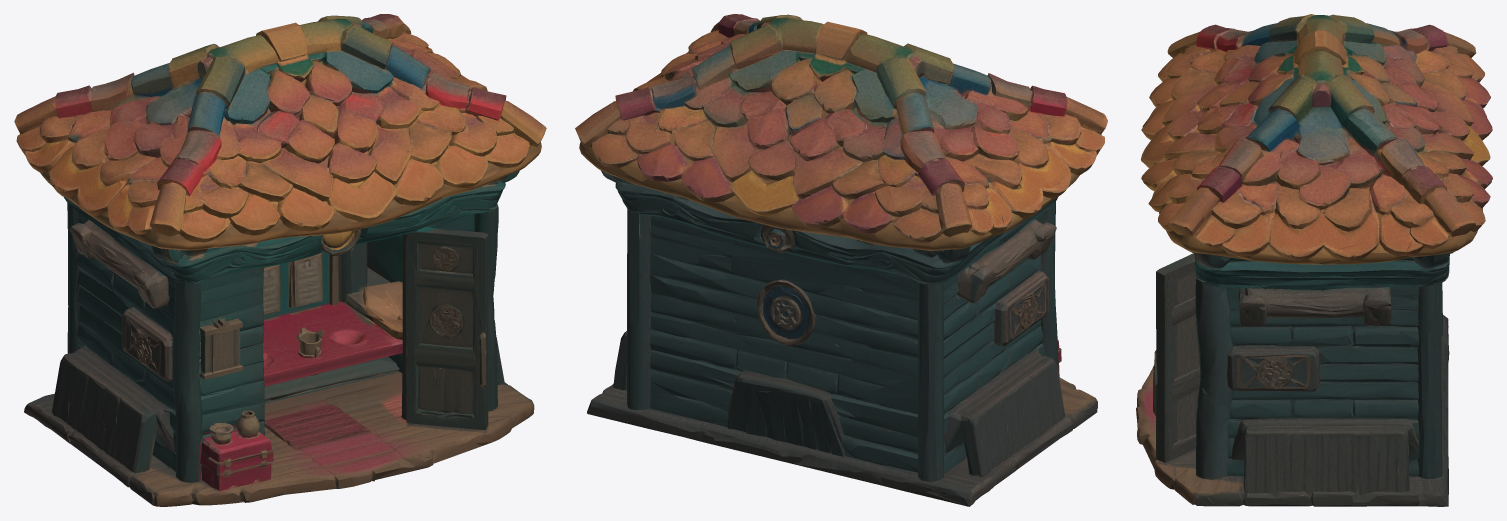
The model's file is shop.glb.
3 renders of one model, left to right at view 1: azimuth 30°, elevation 25°; view 2: azimuth 150°, elevation 25°; view 3: azimuth 270°, elevation 25°, orthographic.
Visible parts, largest first — view 1: output_unwrapped; view 2: output_unwrapped; view 3: output_unwrapped.
Part boxes in pixels (left/top/right/bottom): output_unwrapped: left=14, top=14, right=546, bottom=506; output_unwrapped: left=575, top=14, right=1107, bottom=506; output_unwrapped: left=1136, top=14, right=1492, bottom=506.
Size of the model in its own units: 1.9 by 1.65 by 1.41.
Materials: 1 (1 with a texture image).
